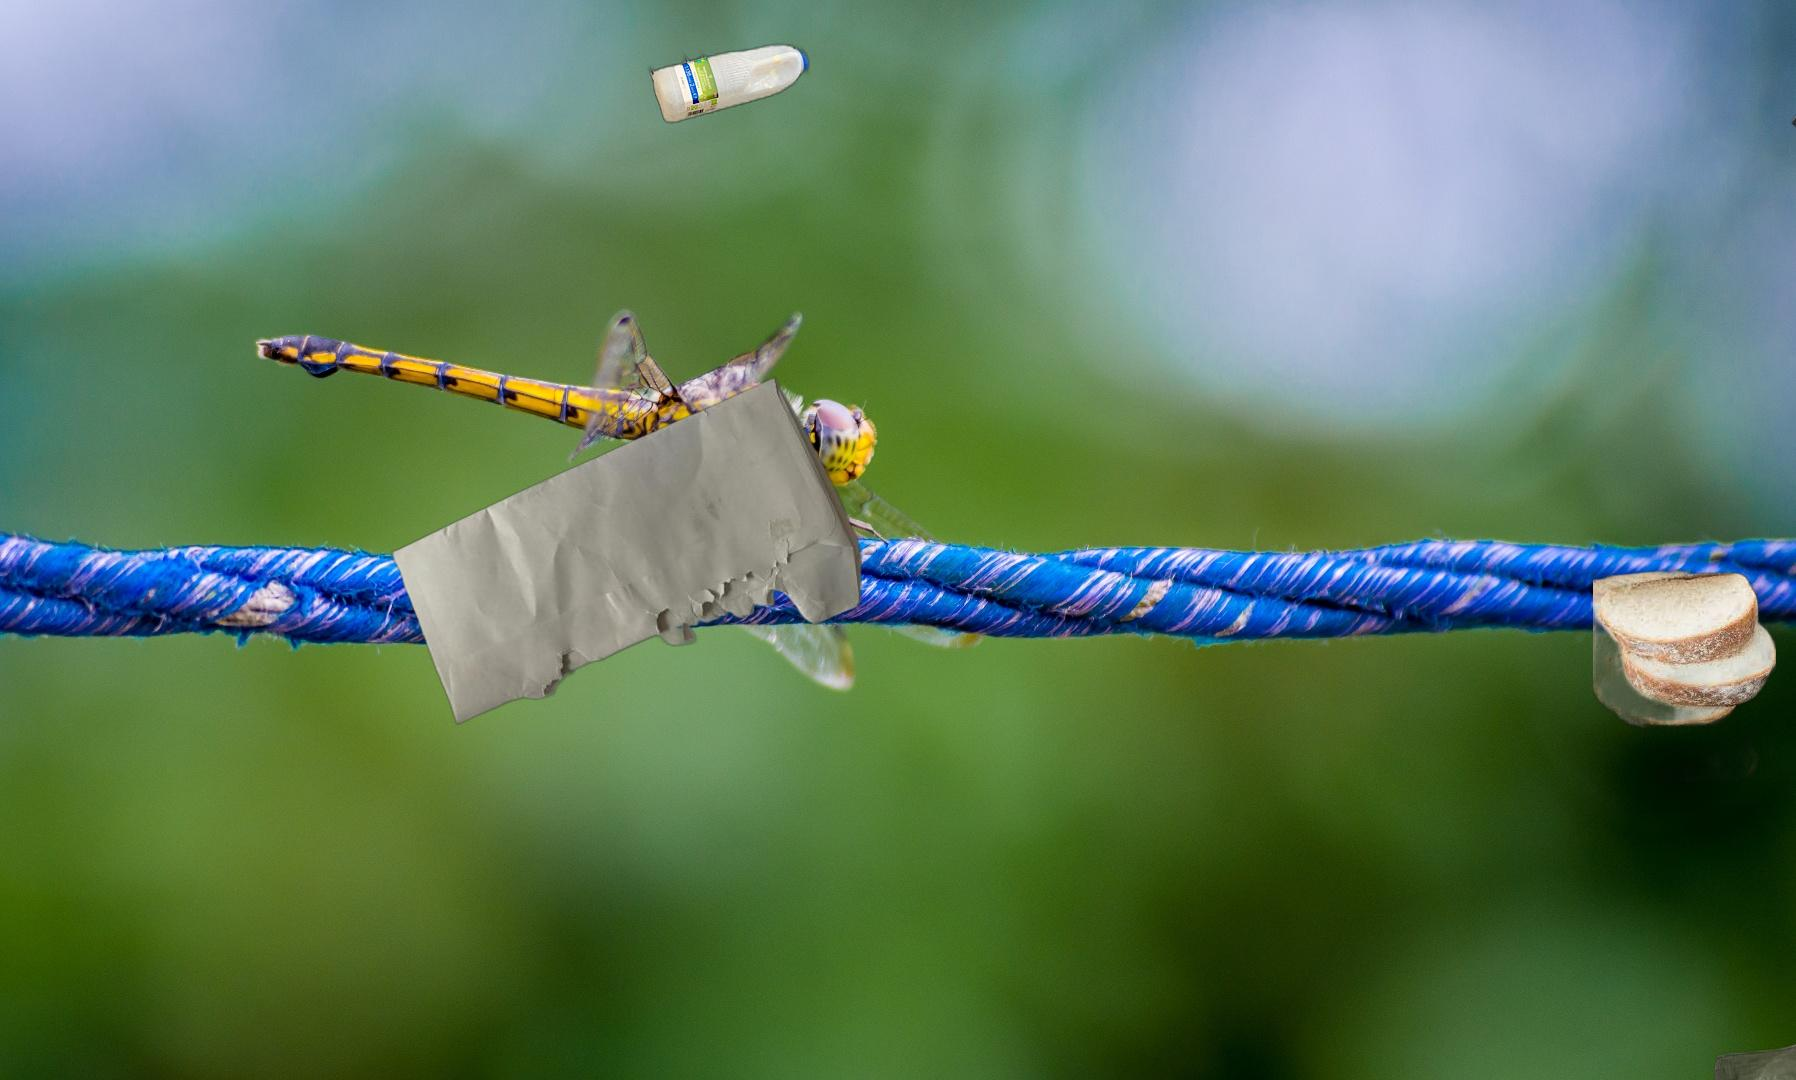battery: (1790, 15, 1796, 189)
biological: (1593, 564, 1775, 782)
clothes: (1674, 1006, 1796, 1080)
paper: (387, 376, 867, 729)
paper-bag: (514, 448, 711, 646)
plastic-bottles: (644, 38, 815, 130)
